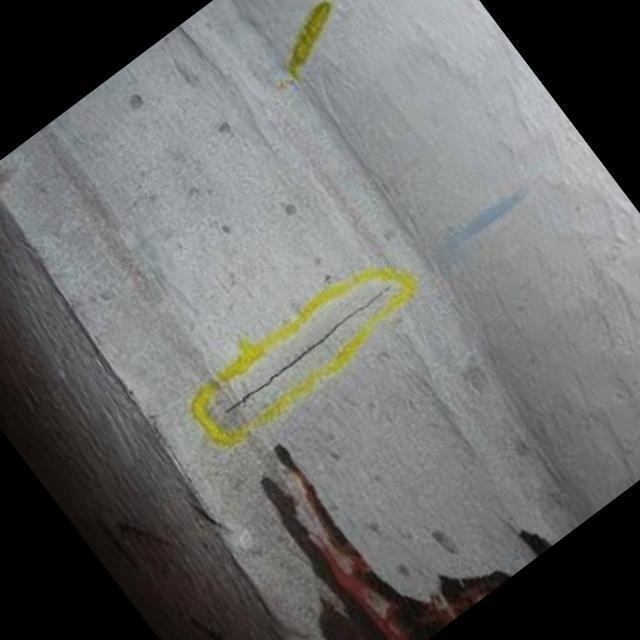defect: (218, 282, 394, 418)
